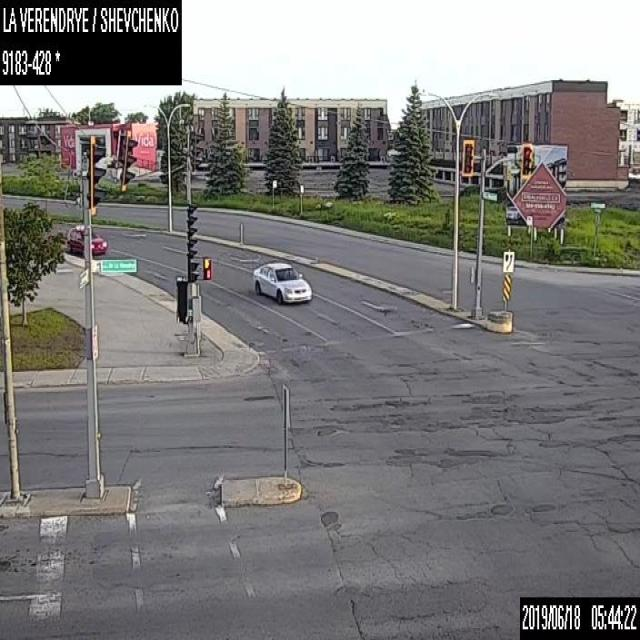vehicle: (251, 259, 313, 305), (64, 222, 106, 255)
